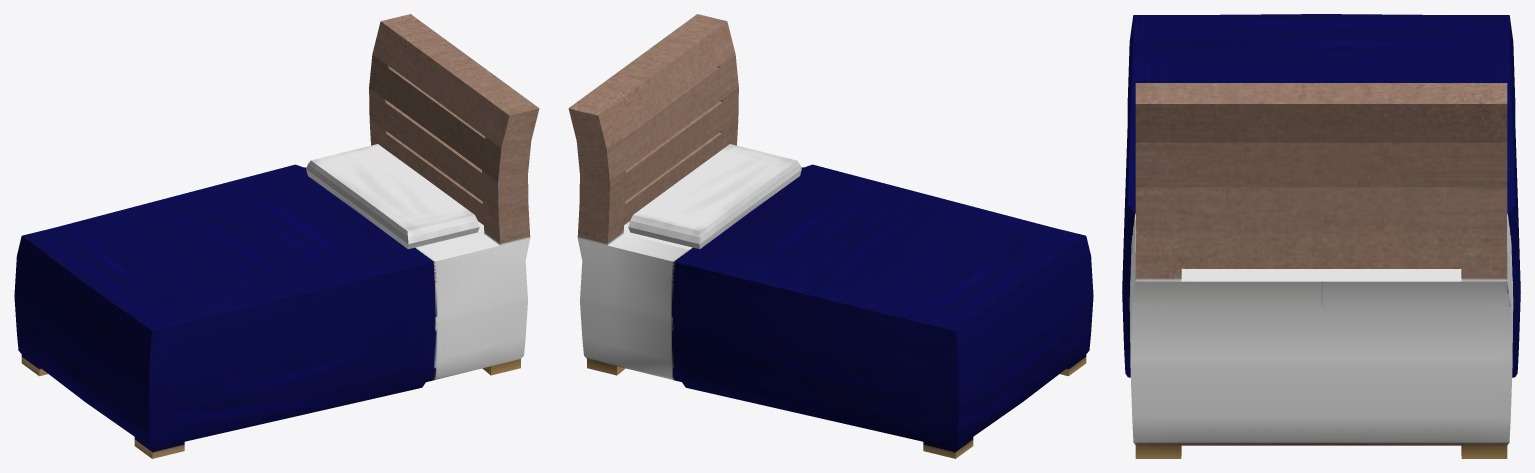
The model's file is letto_cuscino.FBX.
3 views of the same model, side by side, from view 1: azimuth 30°, elevation 25°; view 2: azimuth 150°, elevation 25°; view 3: azimuth 270°, elevation 25° (orthographic). The views are drawn at different scales.
Visible parts, largest first — view 1: cuscino; view 2: cuscino; view 3: cuscino.
Boxes of the visible parts, x1=… form: cuscino: x1=14, y1=14, x2=539, y2=458; cuscino: x1=568, y1=14, x2=1093, y2=458; cuscino: x1=1122, y1=14, x2=1520, y2=458.
Size of the model in its own units: 1.94 by 1.2 by 1.18.
